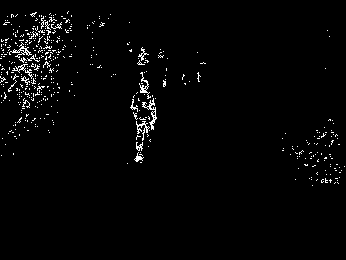person: (130, 78, 157, 164)
